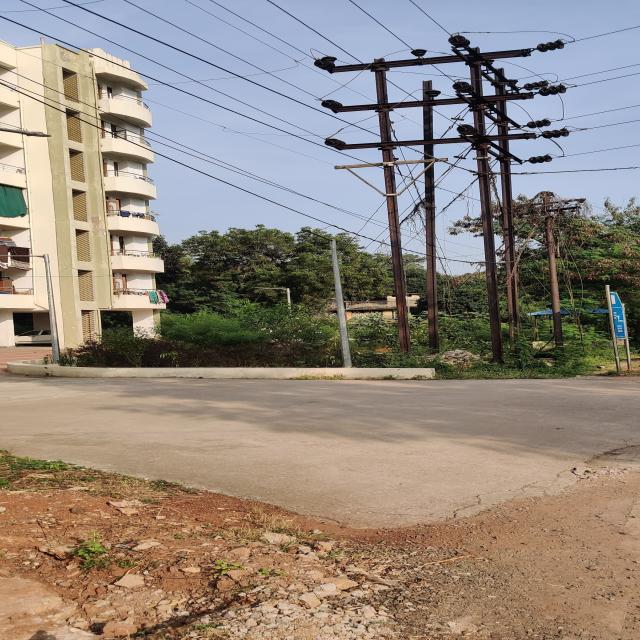Mango Tree: (171, 236, 390, 296)
